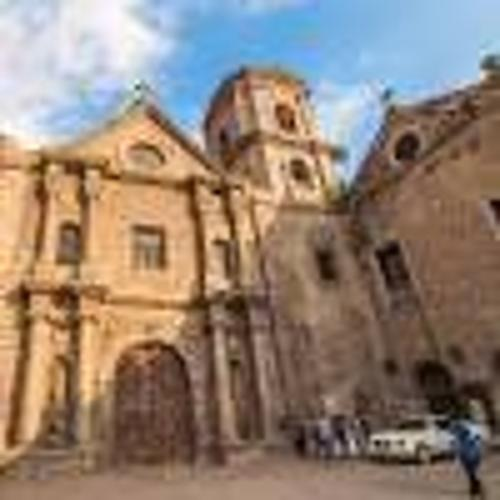San Agustin Church: (29, 38, 381, 473)
